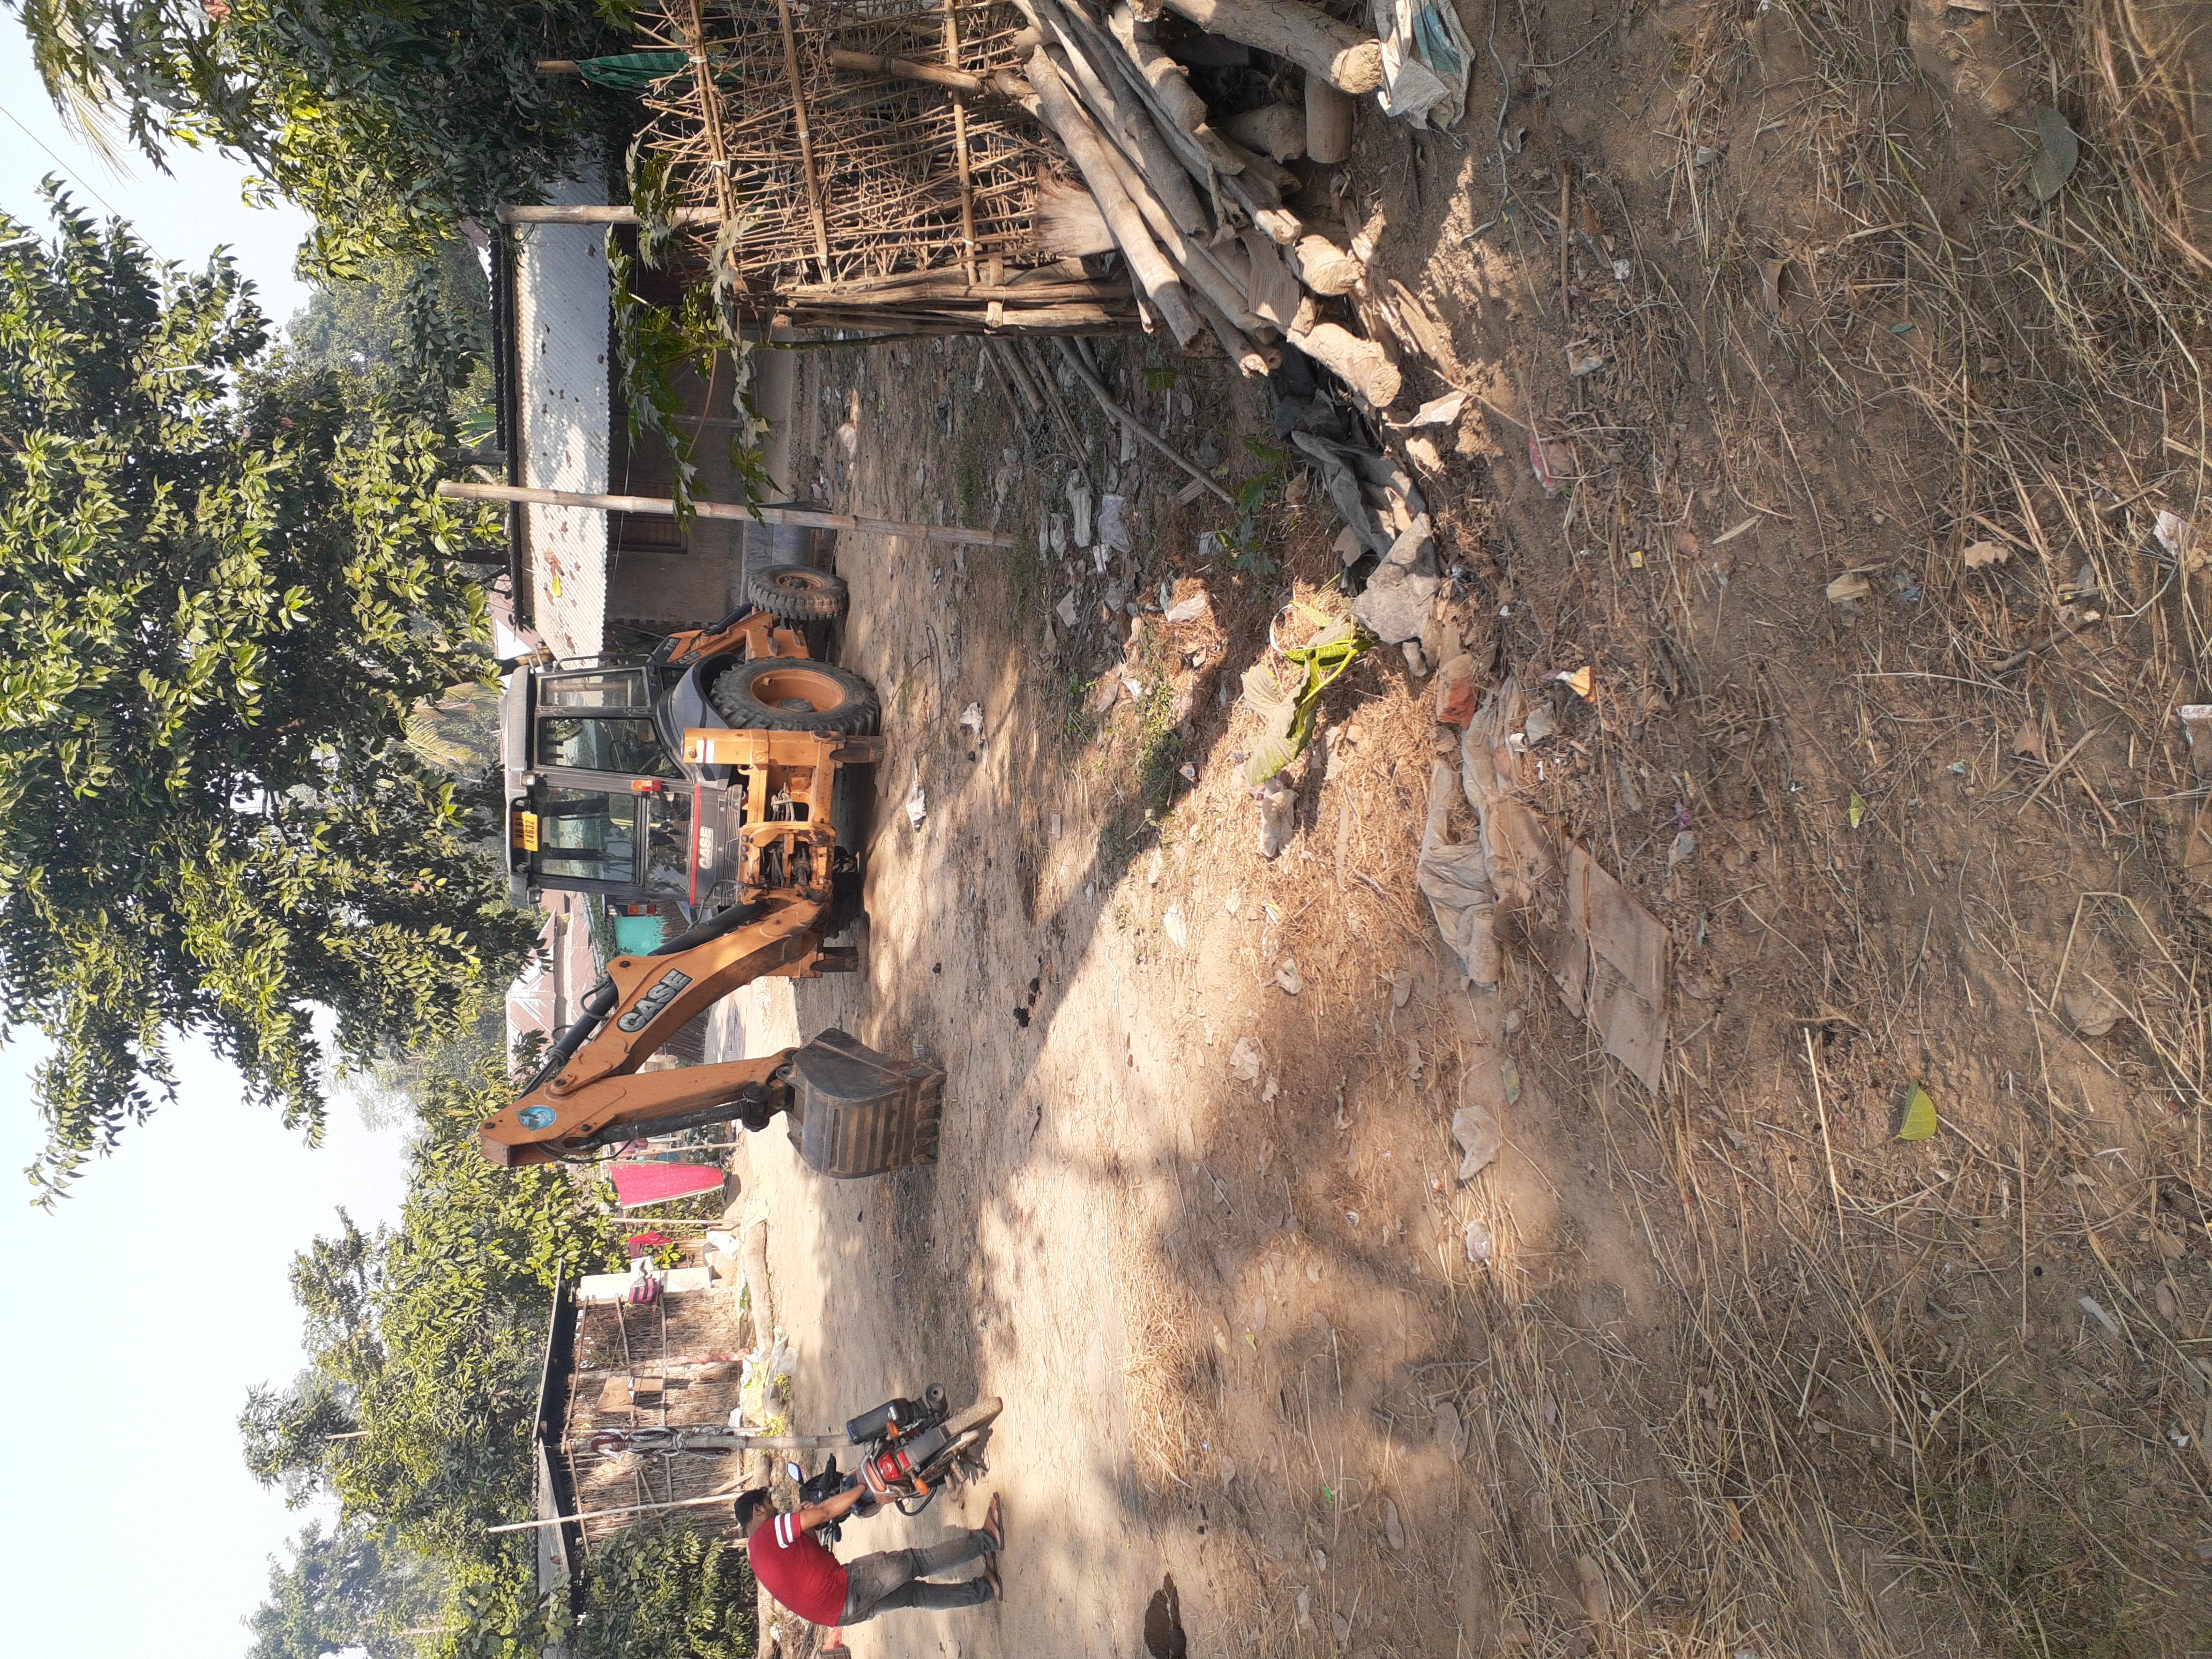excavator: (632, 378, 1437, 667)
